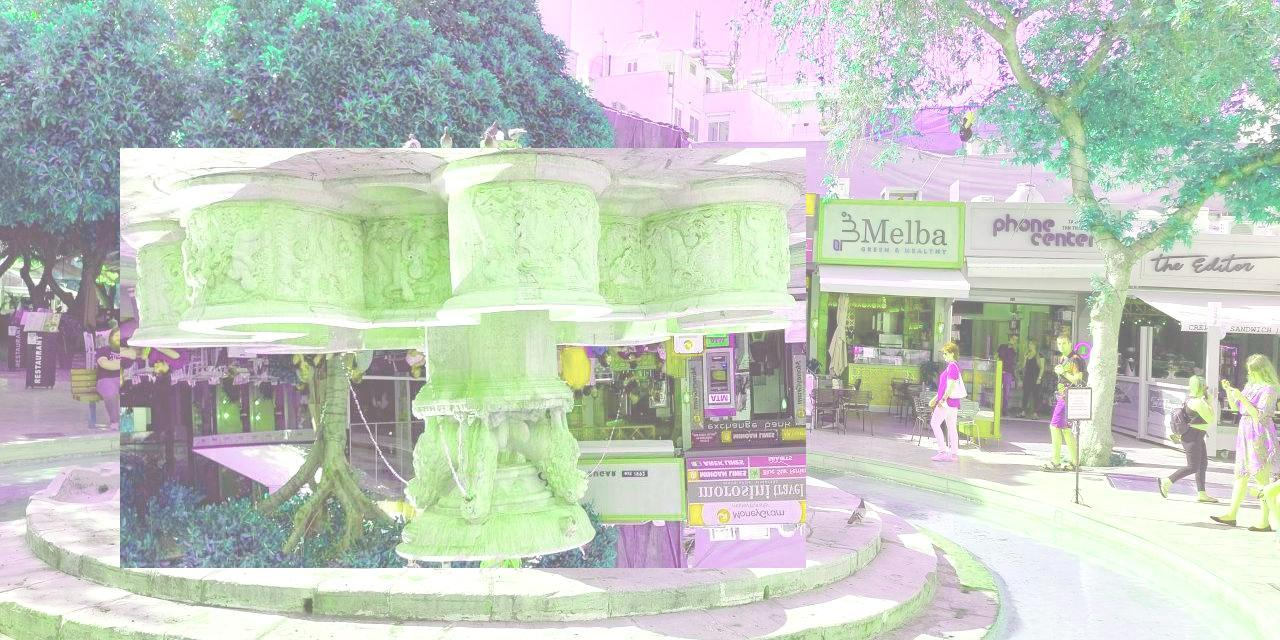Liontaria: (121, 149, 807, 569)
